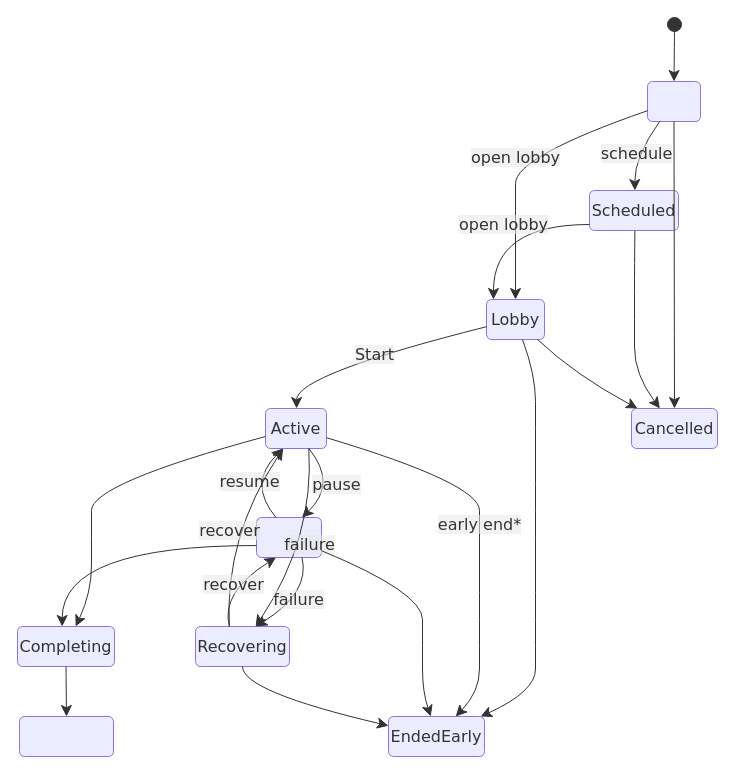
The diagram is 735 pixels wide and 774 high, and some of its shapes have lost their labels. Each missing label, with the box of its shape:
Completed: (18, 716, 114, 756)
Draft: (646, 80, 700, 122)
Paused: (256, 516, 322, 558)
